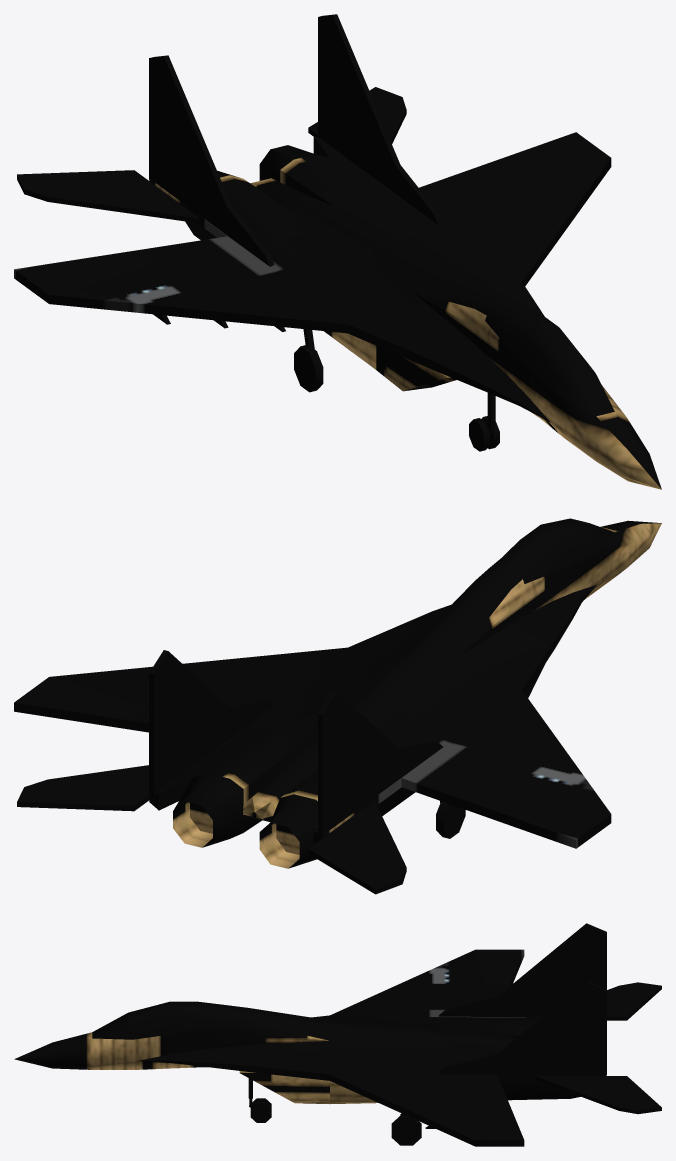
File: eden_plane.obj
3 renders of one model, top to bottom at view 1: azimuth 30°, elevation 25°; view 2: azimuth 150°, elevation 25°; view 3: azimuth 270°, elevation 25°, orthographic. The views are drawn at different scales.
Parts seen in each view (by area): view 1: body, z_glass, surface5, lg2, surface4, lg0, surface1, surface0, surface3, surface2, frame_out; view 2: body, surface5, surface4, z_glass, surface2, surface3, surface0, surface1, lg2, frame_out; view 3: body, z_glass, surface4, surface5, surface0, lg1, frame_out, lg0, surface1, surface3, surface2.
Boxes of the visible parts, x1,y1,x2,y2 form: body: [14, 14, 661, 489]; z_glass: [488, 301, 614, 416]; surface5: [17, 170, 200, 223]; lg2: [294, 329, 323, 392]; surface4: [308, 87, 406, 143]; lg0: [469, 393, 499, 451]; surface1: [149, 94, 169, 168]; surface0: [318, 53, 338, 127]; surface3: [54, 252, 142, 270]; surface2: [484, 143, 553, 176]; frame_out: [485, 300, 596, 395]; body: [14, 520, 661, 868]; surface5: [308, 800, 406, 894]; surface4: [17, 765, 149, 811]; z_glass: [492, 518, 614, 579]; surface2: [54, 701, 142, 728]; surface3: [483, 795, 552, 837]; surface0: [149, 702, 174, 770]; surface1: [318, 743, 342, 811]; lg2: [436, 801, 465, 838]; frame_out: [488, 523, 600, 583]; body: [14, 923, 606, 1146]; z_glass: [92, 1001, 229, 1039]; surface4: [535, 1076, 661, 1114]; surface5: [607, 982, 661, 1020]; surface0: [578, 1016, 606, 1057]; lg1: [391, 1115, 421, 1145]; frame_out: [124, 1001, 232, 1039]; lg0: [248, 1078, 271, 1122]; surface1: [584, 958, 606, 988]; surface3: [488, 962, 519, 985]; surface2: [488, 1105, 518, 1127].
Size of the model in its own units: 14.27 by 5.84 by 20.47.
